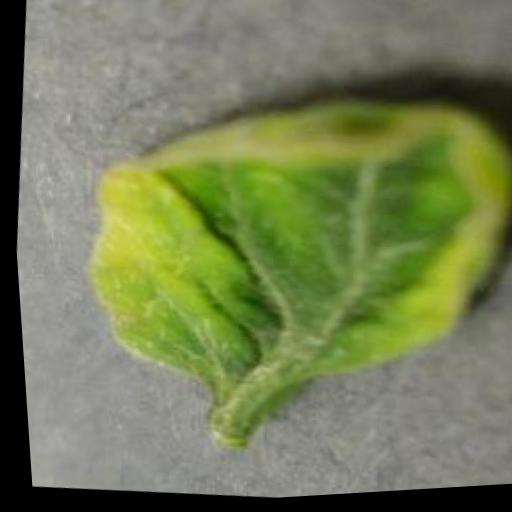Yellow Leaf Curl Virus: (64, 64, 512, 418)
